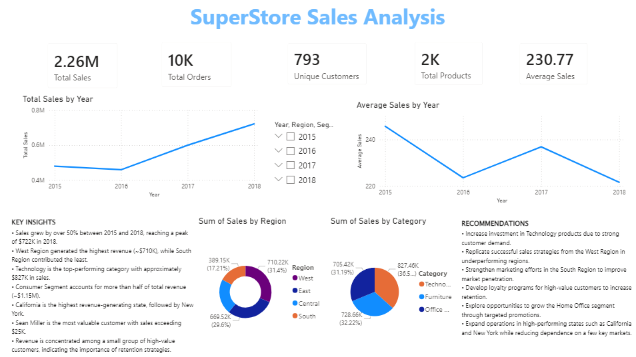

This screenshot's page, from the dashboard's own definition file:
{"tool":"powerbi","page":{"name":"Executive Overview","canvas":[1280,720],"ordinal":0},"visuals":[{"type":"cardVisual","fields":{"Data":["train.Total Sales"]},"box":[82.5,72.5,170,130],"z":0},{"type":"cardVisual","fields":{"Data":["train.Total Orders"]},"box":[310,70,172.5,132.5],"z":1000},{"type":"lineChart","fields":{"Category":["train.Order Date.Variation.Date Hierarchy.Year","train.Order Date.Variation.Date Hierarchy.Quarter","train.Order Date.Variation.Date Hierarchy.Month","train.Order Date.Variation.Date Hierarchy.Day"],"Y":["train.Total Sales"]},"box":[44,190,486,212],"z":2000},{"type":"cardVisual","fields":{"Data":["train.Total Products"]},"box":[815,70,170,120],"z":3000},{"type":"cardVisual","fields":{"Data":["train.Unique Customers"]},"box":[562.5,72.5,192.5,117.5],"z":4000},{"type":"cardVisual","fields":{"Data":["train.Average Sales"]},"box":[1025,72.5,170,117.5],"z":5000},{"type":"donutChart","fields":{"Category":["train.Region"],"Y":["Sum(train.Sales)"]},"box":[396,434,262,286],"z":6000},{"type":"pieChart","fields":{"Category":["train.Category"],"Y":["Sum(train.Sales)"]},"box":[660,434,262,286],"z":7000},{"type":"slicer","fields":{"Values":["train.Order Date.Variation.Date Hierarchy.Year","train.Region","train.Segment"]},"box":[540,238,158,164],"z":8000},{"type":"lineChart","fields":{"Category":["train.Order Date.Variation.Date Hierarchy.Year"],"Y":["train.Average Sales"]},"box":[712,202,548,212],"z":9000},{"type":"textbox","box":[232.5,0,815,72.5],"z":10000},{"type":"textbox","box":[22,432,374,288],"z":10001},{"type":"textbox","box":[922,434,358,286],"z":10002}]}

Visuals, with their boxes in screenshot pixels (x1, y1, x2, y2), scaled from the page's 1280x720 canvas onto the 636x357 screenshot:
cardVisual - train.Total Sales: {"x1": 41, "y1": 36, "x2": 125, "y2": 100}
cardVisual - train.Total Orders: {"x1": 154, "y1": 35, "x2": 240, "y2": 100}
lineChart - train.Order Date.Variation.Date Hierarchy.Year x train.Order Date.Variation.Date Hierarchy.Quarter: {"x1": 22, "y1": 94, "x2": 263, "y2": 199}
cardVisual - train.Total Products: {"x1": 405, "y1": 35, "x2": 489, "y2": 94}
cardVisual - train.Unique Customers: {"x1": 279, "y1": 36, "x2": 375, "y2": 94}
cardVisual - train.Average Sales: {"x1": 509, "y1": 36, "x2": 594, "y2": 94}
donutChart - train.Region x Sum(train.Sales): {"x1": 197, "y1": 215, "x2": 327, "y2": 356}
pieChart - train.Category x Sum(train.Sales): {"x1": 328, "y1": 215, "x2": 458, "y2": 356}
slicer - train.Order Date.Variation.Date Hierarchy.Year x train.Region: {"x1": 268, "y1": 118, "x2": 347, "y2": 199}
lineChart - train.Order Date.Variation.Date Hierarchy.Year x train.Average Sales: {"x1": 354, "y1": 100, "x2": 626, "y2": 205}
textbox: {"x1": 116, "y1": 0, "x2": 520, "y2": 36}
textbox: {"x1": 11, "y1": 214, "x2": 197, "y2": 356}
textbox: {"x1": 458, "y1": 215, "x2": 635, "y2": 356}
